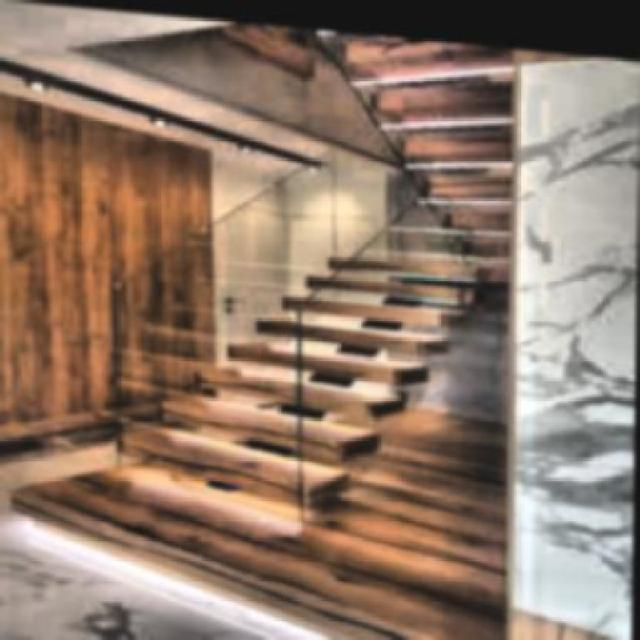stair: (68, 226, 475, 531)
